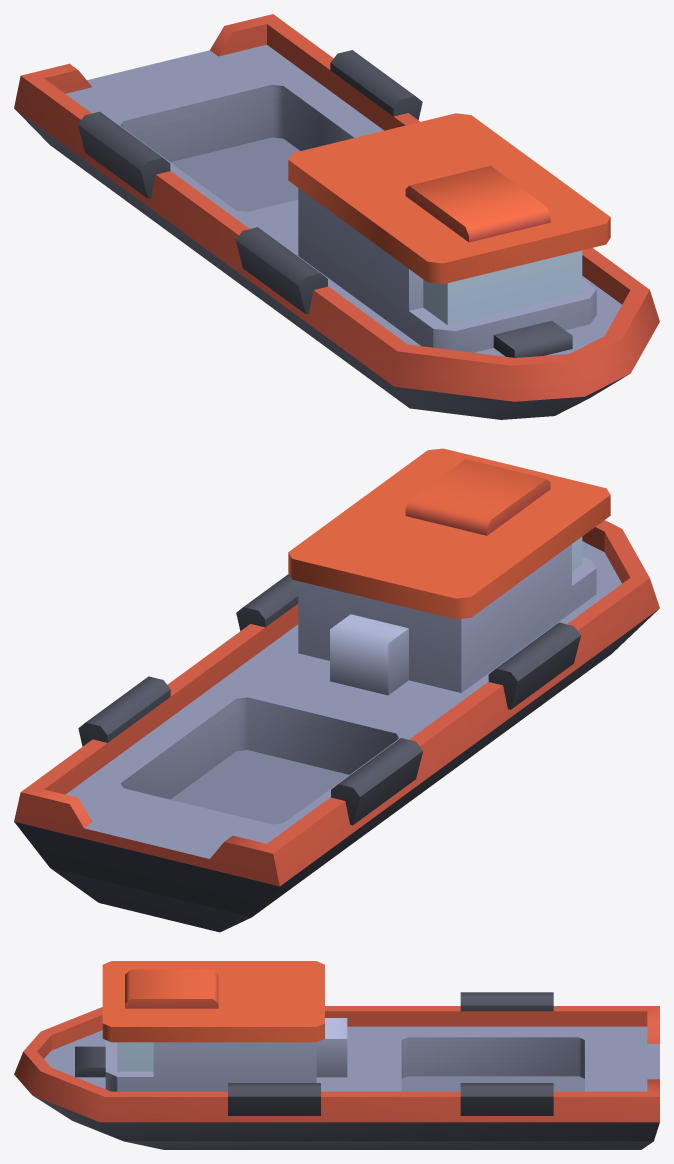
File: boat_ferry.glb
The picture shows the model from 3 angles, top to bottom: view 1: azimuth 30°, elevation 25°; view 2: azimuth 150°, elevation 25°; view 3: azimuth 270°, elevation 25°; orthographic projection. The views are drawn at different scales.
Visible parts, largest first — view 1: ship-cargo-c; view 2: ship-cargo-c; view 3: ship-cargo-c.
Boxes of the visible parts, <box> form: ship-cargo-c: <box>14,14,659,419</box>; ship-cargo-c: <box>14,448,659,932</box>; ship-cargo-c: <box>14,961,659,1149</box>.
Size of the model in its own units: 3.92 by 2.59 by 10.55.
Materials: 1 (1 with a texture image).
